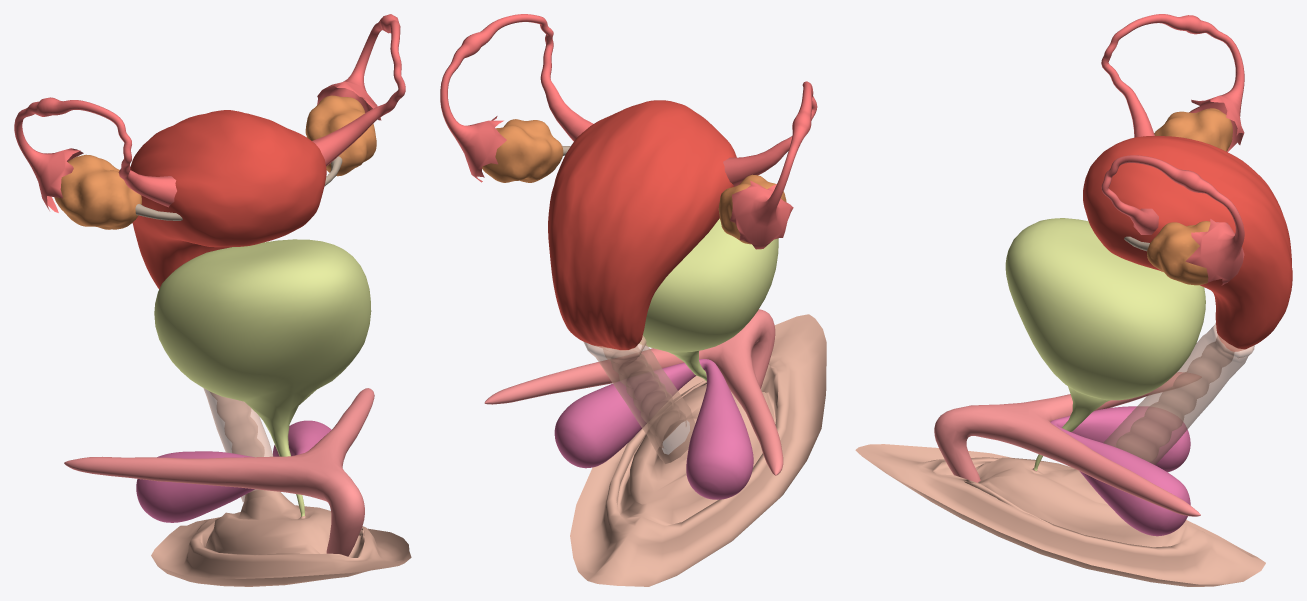
The picture shows the model from 3 angles, left to right: view 1: azimuth 30°, elevation 25°; view 2: azimuth 150°, elevation 25°; view 3: azimuth 270°, elevation 25°; orthographic projection. The views are drawn at different scales.
Parts seen in each view (by area): view 1: Vessie_0, Uterus.001_1, Vulve.001_6, corpsetracines.002_10, Trompe.002_8, Clitoris_2, OvaireD.002_7, Trompe.001_4, Vulve.003_12, OvaireD.001_3, Vulve.002_11; view 2: Uterus.001_1, Vulve.001_6, Clitoris_2, Vessie_0, corpsetracines.002_10, Vulve.003_12, Trompe.002_8, Trompe.001_4, OvaireD.001_3, Vulve.002_11, OvaireD.002_7; view 3: Vessie_0, Vulve.001_6, Uterus.001_1, corpsetracines.002_10, Vulve.003_12, Clitoris_2, Trompe.001_4, Vulve.002_11, Trompe.002_8, OvaireD.001_3, OvaireD.002_7.
Boxes of the visible parts, left/top/right/bottom form: Vessie_0: left=154, top=239, right=371, bottom=516; Uterus.001_1: left=130, top=110, right=326, bottom=289; Vulve.001_6: left=151, top=490, right=411, bottom=586; corpsetracines.002_10: left=64, top=388, right=374, bottom=556; Trompe.002_8: left=14, top=97, right=176, bottom=212; Clitoris_2: left=136, top=420, right=331, bottom=522; OvaireD.002_7: left=54, top=154, right=141, bottom=229; Trompe.001_4: left=312, top=14, right=405, bottom=166; Vulve.003_12: left=203, top=388, right=276, bottom=501; OvaireD.001_3: left=305, top=95, right=376, bottom=176; Vulve.002_11: left=210, top=392, right=264, bottom=490; Uterus.001_1: left=548, top=100, right=736, bottom=350; Vulve.001_6: left=570, top=314, right=826, bottom=586; Clitoris_2: left=554, top=359, right=753, bottom=499; Vessie_0: left=639, top=218, right=778, bottom=381; corpsetracines.002_10: left=484, top=309, right=783, bottom=475; Vulve.003_12: left=584, top=335, right=695, bottom=463; Trompe.002_8: left=723, top=81, right=817, bottom=249; Trompe.001_4: left=440, top=14, right=593, bottom=182; OvaireD.001_3: left=482, top=119, right=563, bottom=182; Vulve.002_11: left=602, top=346, right=686, bottom=447; OvaireD.002_7: left=718, top=174, right=786, bottom=244; Vessie_0: left=1005, top=218, right=1205, bottom=470; Vulve.001_6: left=855, top=444, right=1265, bottom=586; Uterus.001_1: left=1083, top=136, right=1292, bottom=351; corpsetracines.002_10: left=934, top=372, right=1200, bottom=516; Vulve.003_12: left=1103, top=323, right=1254, bottom=464; Clitoris_2: left=1050, top=406, right=1190, bottom=536; Trompe.001_4: left=1101, top=155, right=1244, bottom=285; Vulve.002_11: left=1116, top=336, right=1233, bottom=461; Trompe.002_8: left=1101, top=14, right=1244, bottom=152; OvaireD.001_3: left=1147, top=221, right=1210, bottom=285; OvaireD.002_7: left=1154, top=108, right=1232, bottom=151.
Bounding box in the file's own units: 105 × 143 × 117.
